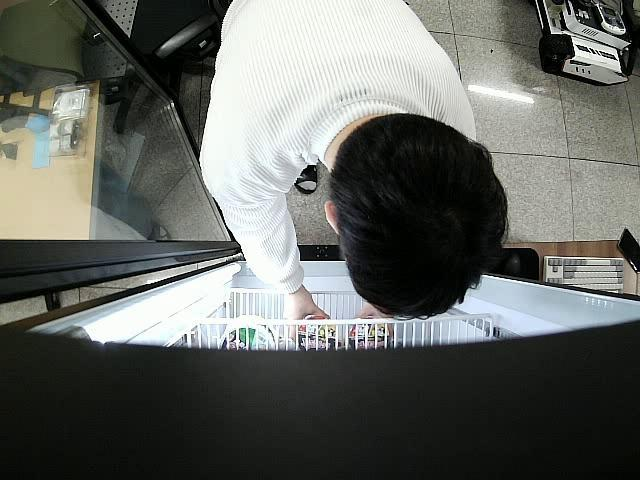08_buldak_S: (294, 312, 342, 354), (348, 316, 394, 352)
